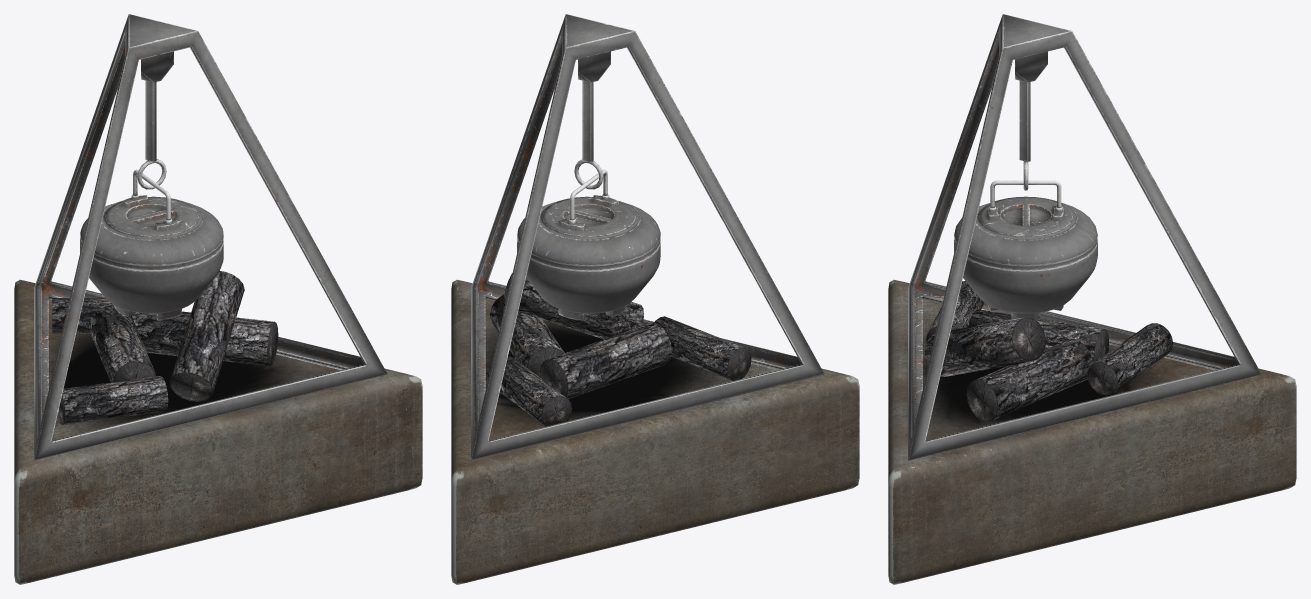
Rendered from cooking_fire.glb.
The picture shows the model from 3 angles, left to right: view 1: azimuth 30°, elevation 25°; view 2: azimuth 150°, elevation 25°; view 3: azimuth 270°, elevation 25°; orthographic projection.
Parts seen in each view (by area): view 1: base, cooking_thing, wood; view 2: base, cooking_thing, wood; view 3: base, cooking_thing, wood.
Boxes of the visible parts, x1,y1,x2,y2 form: base: (14, 279, 422, 584); cooking_thing: (34, 14, 387, 460); wood: (52, 271, 278, 424); base: (451, 279, 859, 584); cooking_thing: (471, 14, 824, 460); wood: (488, 273, 751, 426); base: (888, 279, 1296, 584); cooking_thing: (908, 14, 1261, 460); wood: (925, 281, 1173, 421).
Bounding box in the file's own units: 10.48 × 11.24 × 9.08.
Materials: 4 (4 with a texture image).
